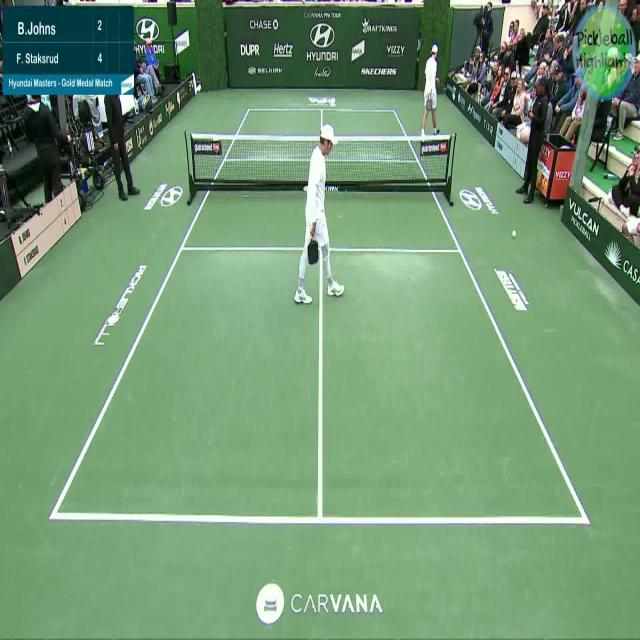ball: (511, 227, 516, 240)
